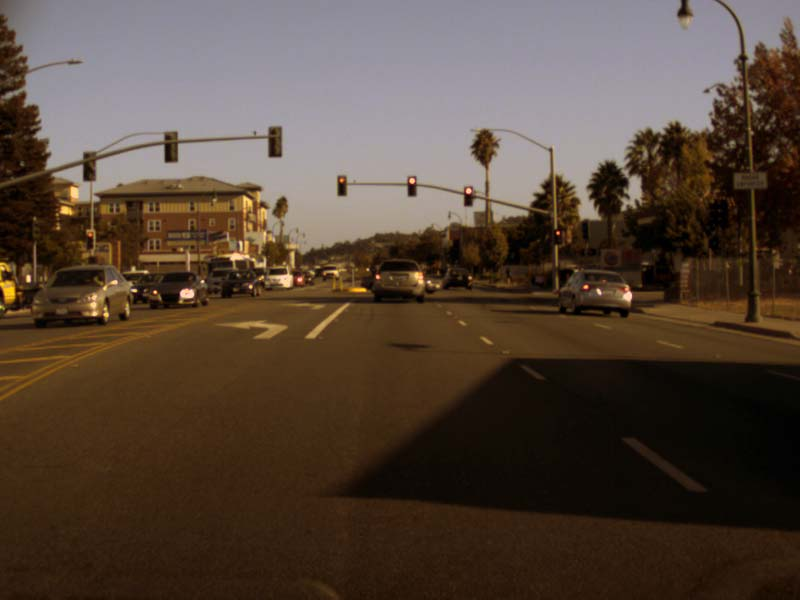Red: (337, 175, 346, 196), (407, 175, 416, 196), (463, 185, 472, 206), (87, 232, 93, 249), (554, 230, 561, 244)
